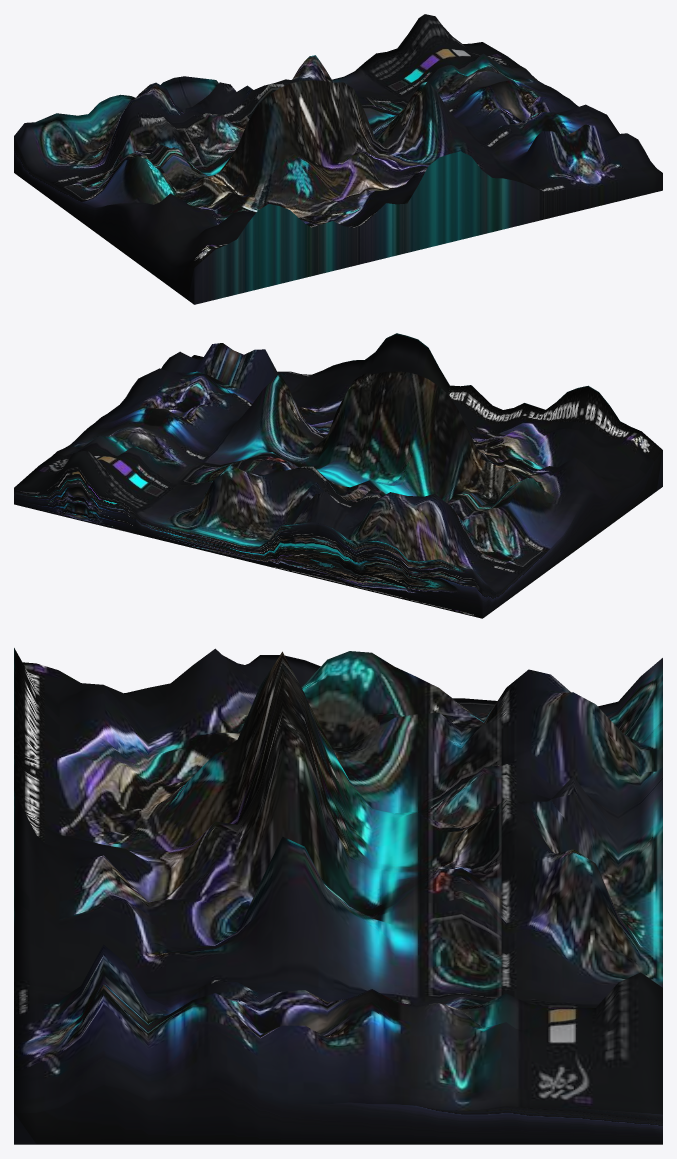
Rendered from VEHICLE_03_Motorcycle.glb.
3 renders of one model, top to bottom at view 1: azimuth 30°, elevation 25°; view 2: azimuth 150°, elevation 25°; view 3: azimuth 270°, elevation 25°, orthographic. The views are drawn at different scales.
Visible parts, largest first — view 1: VEHICLE_03_Motorcycle; view 2: VEHICLE_03_Motorcycle; view 3: VEHICLE_03_Motorcycle.
Part boxes in pixels (left/top/right/bottom): VEHICLE_03_Motorcycle: left=14, top=14, right=662, bottom=304; VEHICLE_03_Motorcycle: left=14, top=333, right=662, bottom=618; VEHICLE_03_Motorcycle: left=14, top=648, right=662, bottom=1144.
Size of the model in its own units: 2 by 0.51 by 1.33.
Materials: 1 (1 with a texture image).
